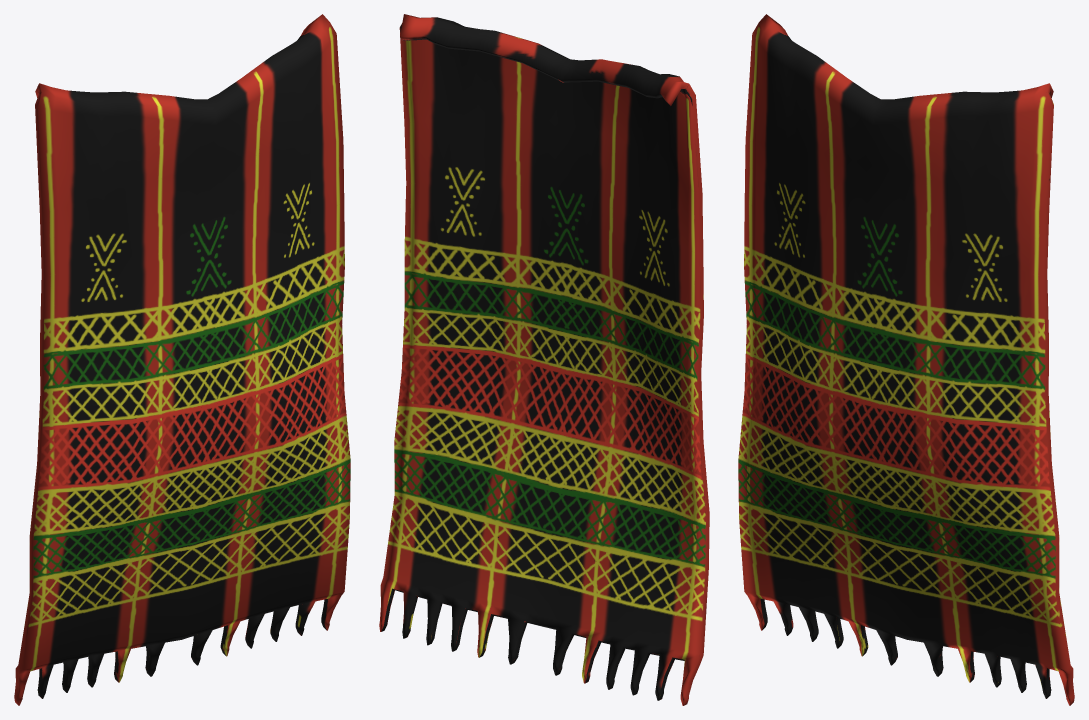
The model's file is magiting kalinga tail.fbx.
The picture shows the model from 3 angles, left to right: view 1: azimuth 30°, elevation 25°; view 2: azimuth 150°, elevation 25°; view 3: azimuth 330°, elevation 25°; orthographic projection.
Parts seen in each view (by area): view 1: Plane.017; view 2: Plane.017; view 3: Plane.017.
Boxes of the visible parts, x1=… form: Plane.017: x1=14, y1=14, x2=350, y2=705; Plane.017: x1=379, y1=14, x2=709, y2=705; Plane.017: x1=738, y1=14, x2=1074, y2=705.
Size of the model in its own units: 49.91 by 92.6 by 12.85.
